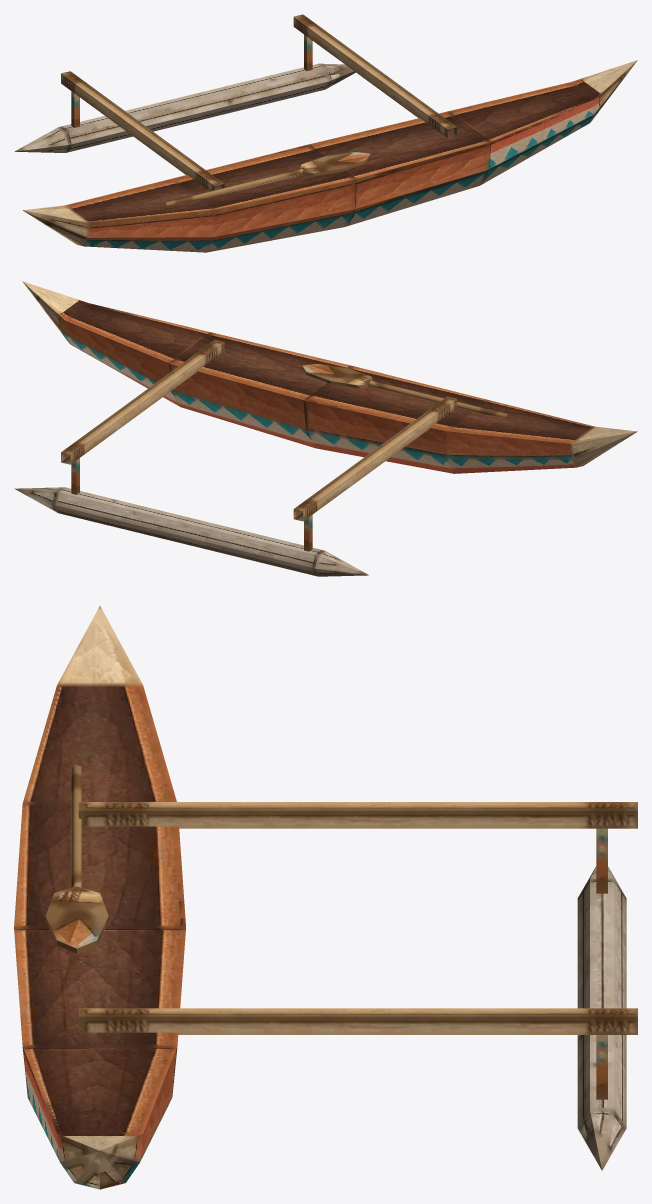
Rendered from canoe.glb.
The picture shows the model from 3 angles, top to bottom: view 1: azimuth 30°, elevation 25°; view 2: azimuth 150°, elevation 25°; view 3: azimuth 270°, elevation 25°; orthographic projection. The views are drawn at different scales.
Parts seen in each view (by area): view 1: GEO-canoe; view 2: GEO-canoe; view 3: GEO-canoe.
Part boxes in pixels (x1,y1,x2,y2): GEO-canoe: (15,14,637,252); GEO-canoe: (14,281,637,576); GEO-canoe: (14,606,637,1189).
Bounding box in the file's own units: 4.5 × 0.62 × 2.18.
Materials: 1 (1 with a texture image).
